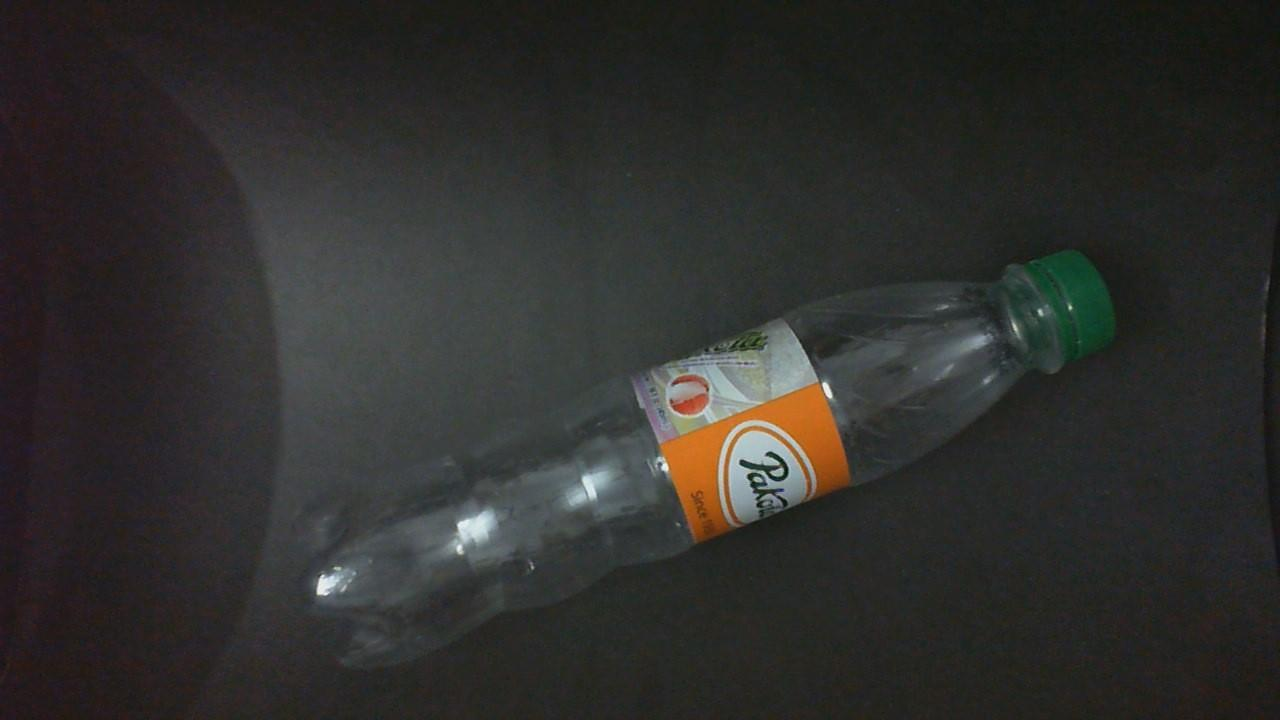Bottle: (305, 250, 1114, 665)
